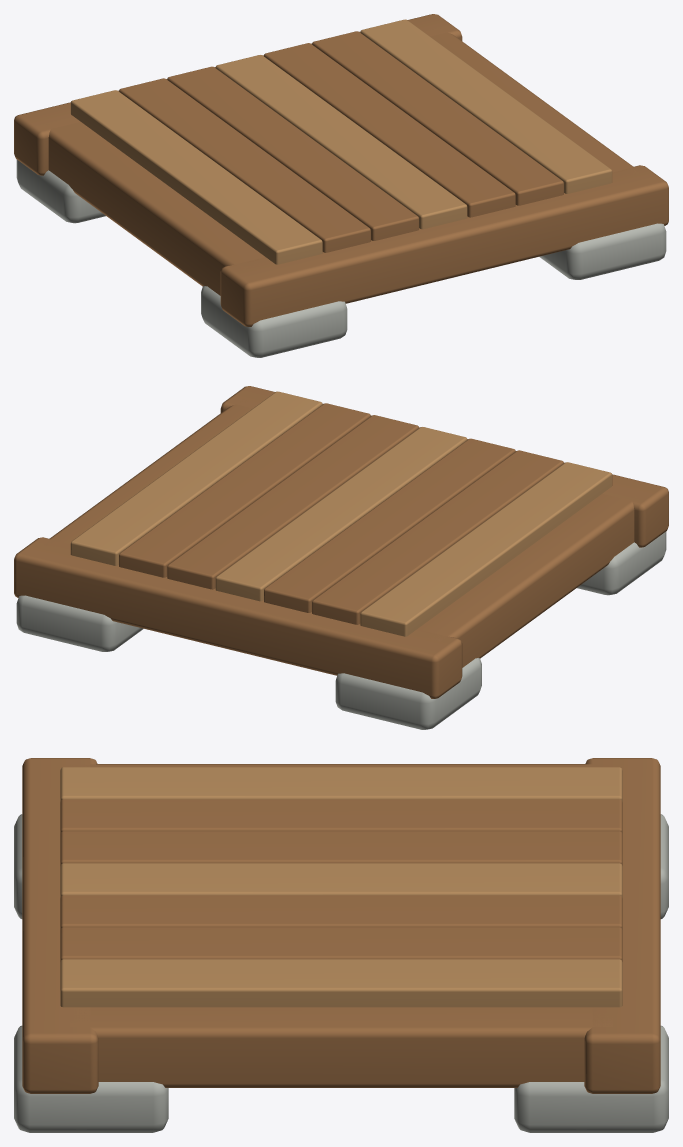
Rendered from tower_stage_empty.glb.
The picture shows the model from 3 angles, top to bottom: view 1: azimuth 30°, elevation 25°; view 2: azimuth 150°, elevation 25°; view 3: azimuth 270°, elevation 25°; orthographic projection. The views are drawn at different scales.
Parts seen in each view (by area): view 1: base_beam_front, base_beam_left, deck_plank_00, deck_plank_06, deck_plank_05, deck_plank_01, deck_plank_03, deck_plank_04, deck_plank_02, stone_foot_L_F, stone_foot_R_F, base_beam_right (+2 smaller); view 2: base_beam_back, base_beam_left, deck_plank_00, deck_plank_06, deck_plank_05, deck_plank_01, deck_plank_03, deck_plank_04, deck_plank_02, stone_foot_L_B, stone_foot_R_B, base_beam_right (+2 smaller); view 3: base_beam_right, deck_plank_06, deck_plank_00, deck_plank_01, deck_plank_02, deck_plank_03, deck_plank_04, deck_plank_05, base_beam_back, base_beam_front, stone_foot_R_B, stone_foot_R_F (+3 smaller).
Boxes of the visible parts, x1,y1,x2,y2 form: base_beam_front: (220, 165, 668, 326); base_beam_left: (46, 121, 264, 295); deck_plank_00: (70, 90, 322, 264); deck_plank_06: (360, 19, 612, 193); deck_plank_05: (312, 31, 563, 205); deck_plank_01: (119, 78, 370, 252); deck_plank_03: (215, 55, 467, 229); deck_plank_04: (264, 43, 515, 217); deck_plank_02: (167, 66, 418, 240); stone_foot_L_F: (201, 286, 347, 357); stone_foot_R_F: (539, 223, 666, 279); base_beam_right: (425, 28, 638, 173); base_beam_back: (14, 537, 462, 698); base_beam_left: (418, 493, 635, 667); deck_plank_00: (360, 462, 612, 636); deck_plank_06: (70, 391, 322, 565); deck_plank_05: (119, 403, 370, 577); deck_plank_01: (312, 450, 563, 624); deck_plank_03: (215, 427, 467, 601); deck_plank_04: (167, 415, 418, 589); deck_plank_02: (264, 438, 515, 612); stone_foot_L_B: (335, 658, 481, 729); stone_foot_R_B: (16, 595, 143, 651); base_beam_right: (44, 399, 254, 547); base_beam_right: (70, 1007, 612, 1087); deck_plank_06: (60, 959, 622, 1007); deck_plank_00: (60, 767, 622, 801); deck_plank_01: (60, 799, 622, 833); deck_plank_02: (60, 831, 622, 865); deck_plank_03: (60, 863, 622, 897); deck_plank_04: (60, 895, 622, 929); deck_plank_05: (60, 927, 622, 961); base_beam_back: (584, 758, 660, 1093); base_beam_front: (22, 758, 98, 1093); stone_foot_R_B: (514, 1025, 668, 1132); stone_foot_R_F: (14, 1025, 168, 1132).
Bounding box in the file's own units: 2.8 × 0.57 × 2.75.
